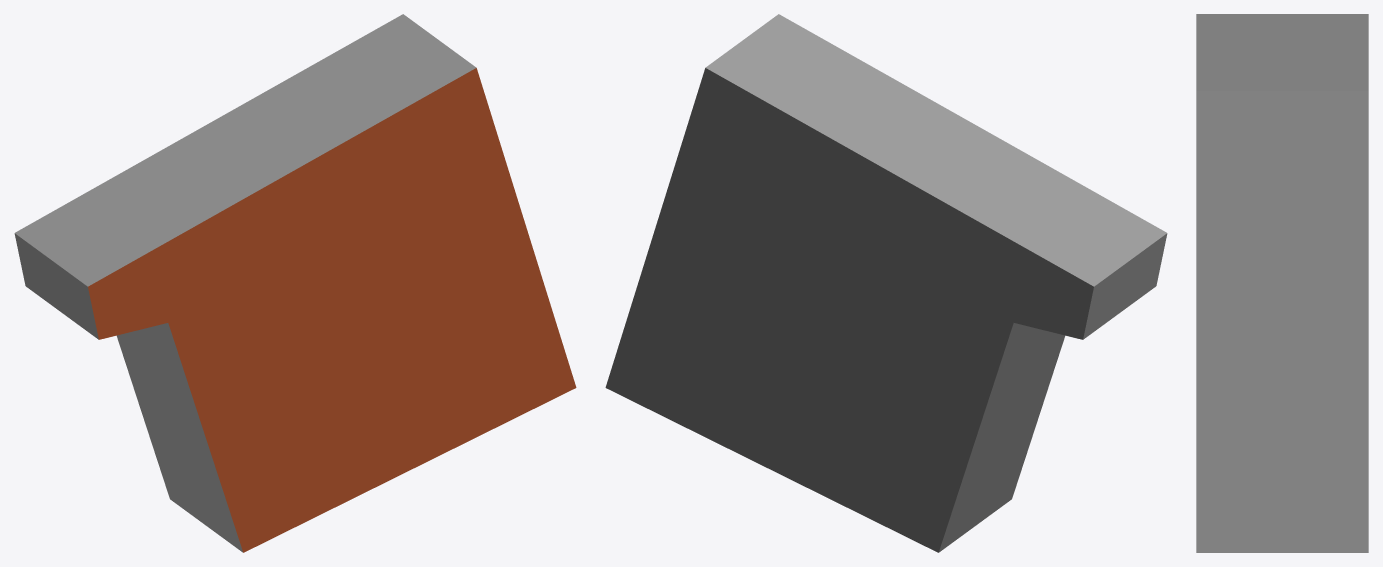
Rendered from construction_3127_assumed_A_Casa_h6m.obj.
The picture shows the model from 3 angles, left to right: view 1: azimuth 30°, elevation 25°; view 2: azimuth 150°, elevation 25°; view 3: azimuth 270°, elevation 25°; orthographic projection. The views are drawn at different scales.
Visible parts, largest first — view 1: construction_3127_assumed_A_Casa; view 2: construction_3127_assumed_A_Casa; view 3: construction_3127_assumed_A_Casa.
Boxes of the visible parts, x1,y1,x2,y2 form: construction_3127_assumed_A_Casa: [14, 14, 576, 552]; construction_3127_assumed_A_Casa: [605, 14, 1167, 552]; construction_3127_assumed_A_Casa: [1196, 14, 1368, 552].
Size of the model in its own units: 23.06 by 19.31 by 6.
